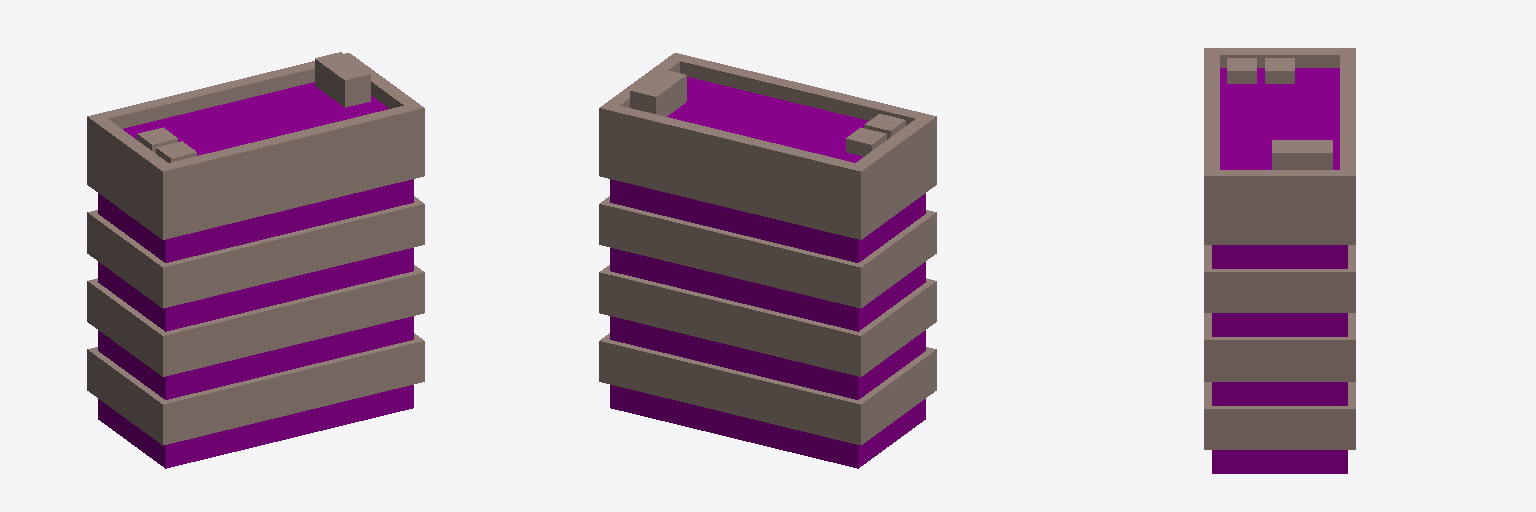
Rendered from low_wideA_CyPk.obj.
The picture shows the model from 3 angles: view 1: azimuth 30°, elevation 25°; view 2: azimuth 150°, elevation 25°; view 3: azimuth 270°, elevation 25°; orthographic projection.
Visible parts, largest first — view 1: low_wideA; view 2: low_wideA; view 3: low_wideA.
Boxes of the visible parts, x1,y1,x2,y2 form: low_wideA: [87, 52, 424, 468]; low_wideA: [599, 53, 936, 468]; low_wideA: [1204, 48, 1355, 473].
Bounding box in the file's own units: 1 × 1.15 × 0.5.